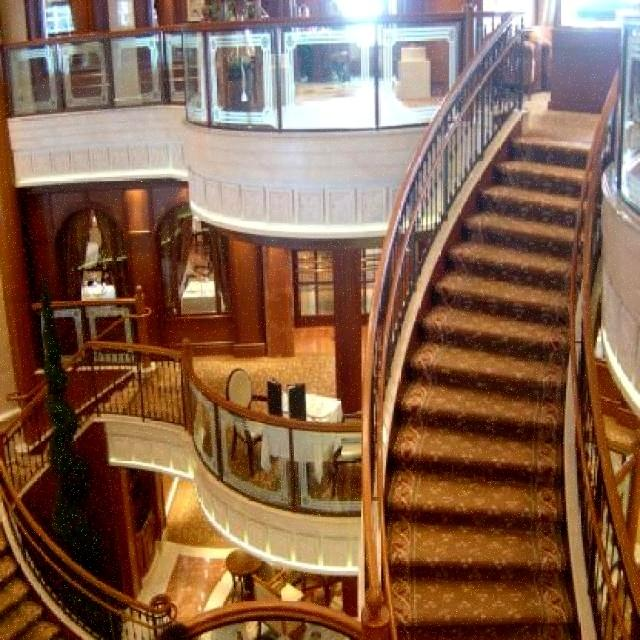stair: (383, 136, 603, 640), (0, 516, 89, 638)
